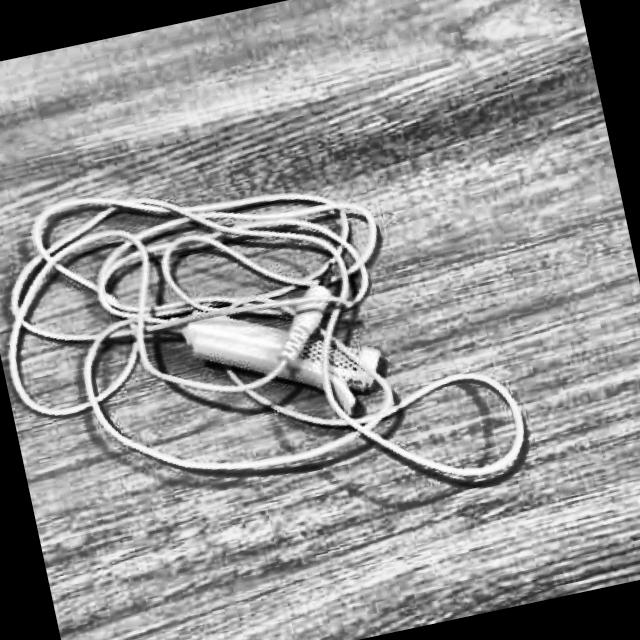Cable: (0, 116, 534, 576)
